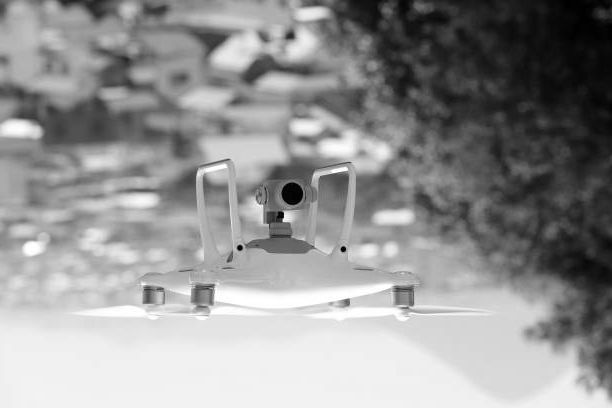Drone: (70, 153, 504, 326)
